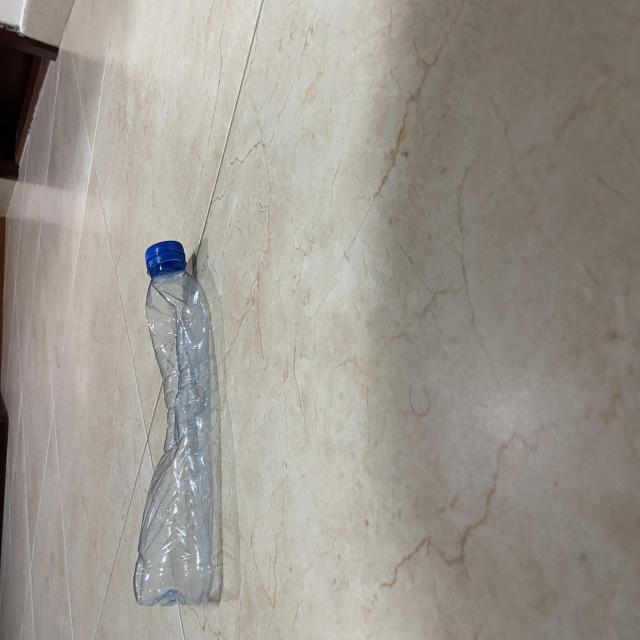plastic: (130, 234, 222, 613)
